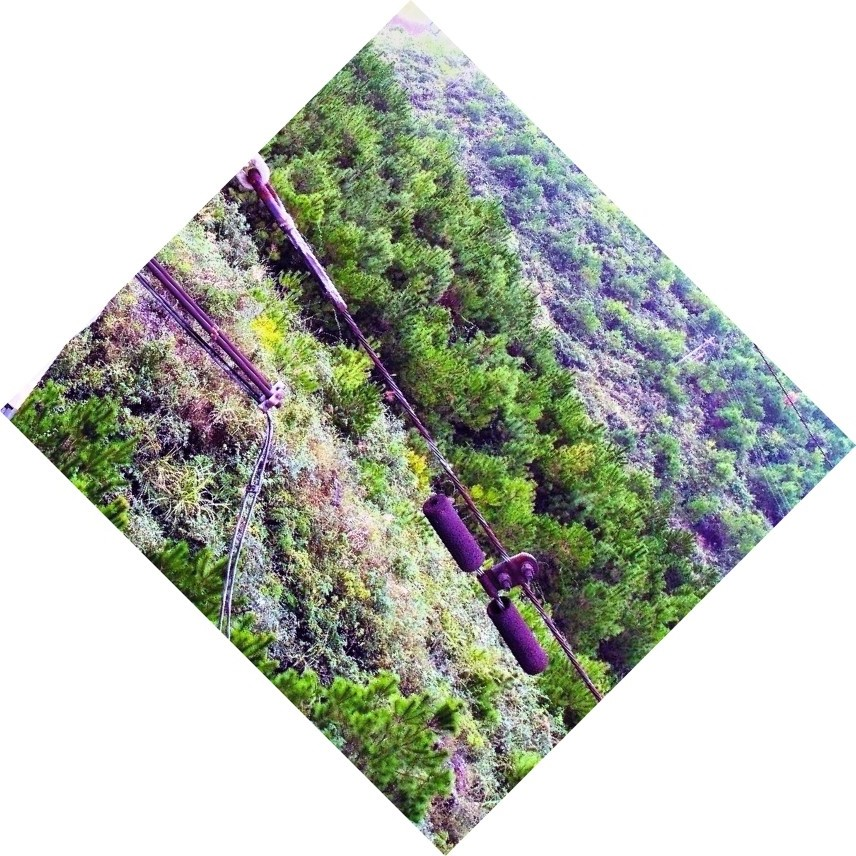Shockproof hammer: (416, 467, 560, 685)
